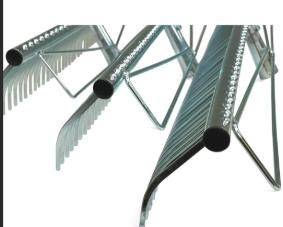RATEAU: (0, 0, 281, 225)
